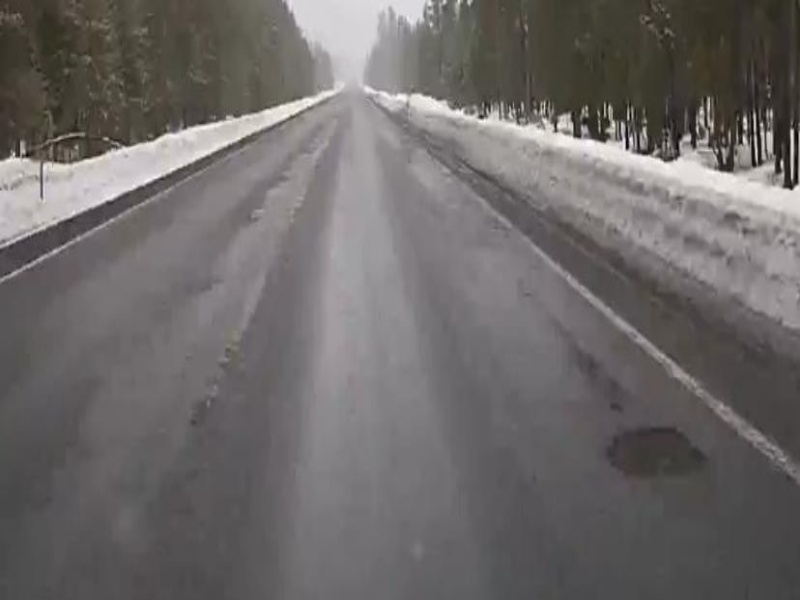pothole: (605, 423, 708, 480)
